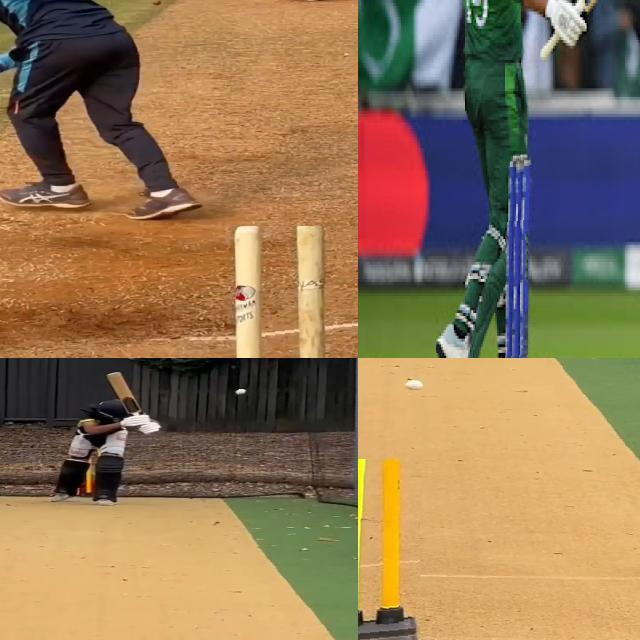Cricket ball: (402, 378, 427, 392), (234, 389, 248, 396)
Stumps: (232, 226, 358, 358), (358, 459, 421, 640), (504, 153, 533, 358)
